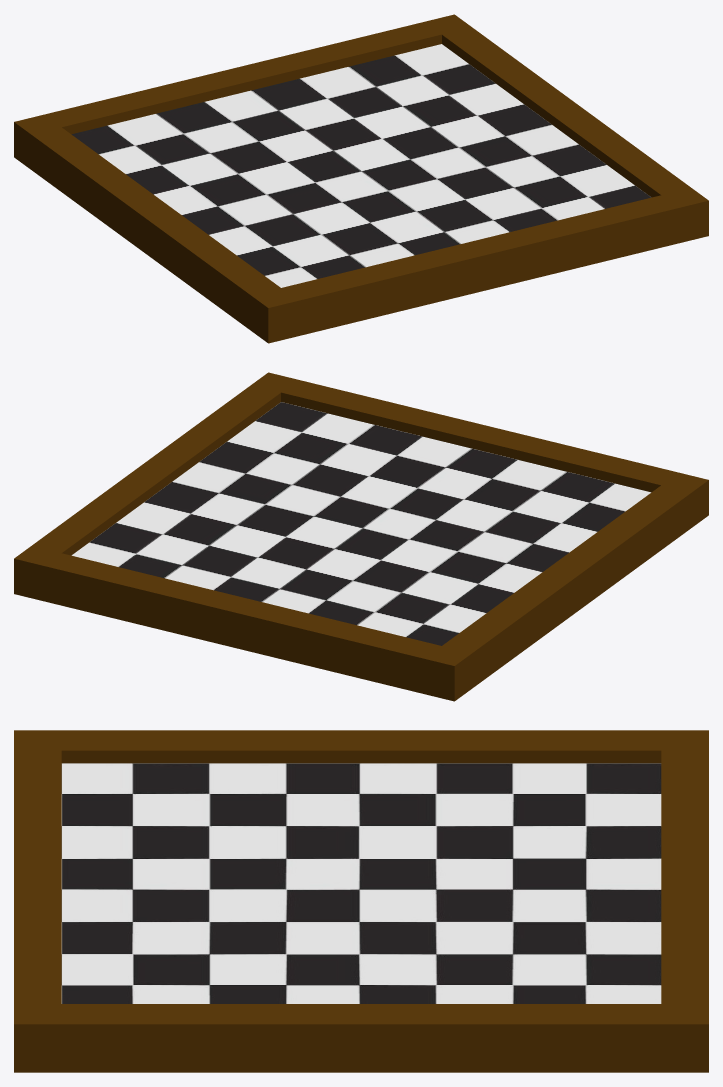
File: Tablero.fbx
3 views of the same model, one above another, from view 1: azimuth 30°, elevation 25°; view 2: azimuth 150°, elevation 25°; view 3: azimuth 270°, elevation 25° (orthographic). The views are drawn at different scales.
Visible parts, largest first — view 1: Cube; view 2: Cube; view 3: Cube.
Part boxes in pixels (box(x1,y1,x2,y2)): Cube: box(14, 14, 708, 343); Cube: box(14, 372, 708, 701); Cube: box(14, 730, 708, 1072).
Size of the model in its own units: 656 by 50.35 by 656.
Materials: 2 (1 with a texture image).
